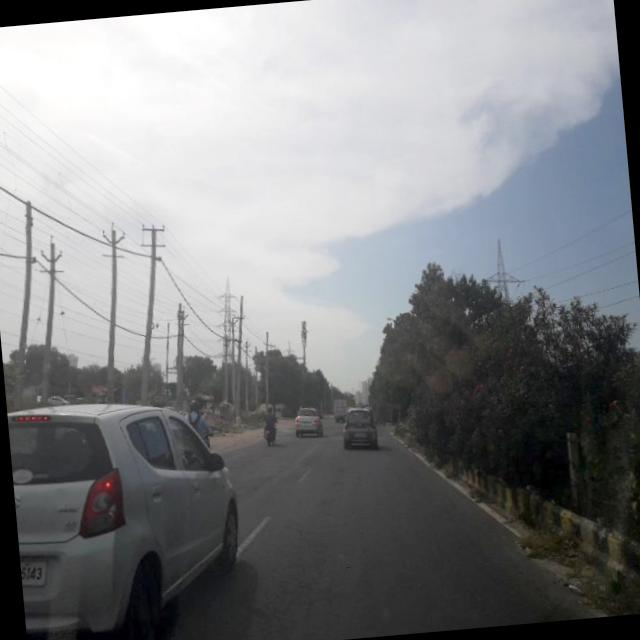crack: (217, 444, 497, 630)
